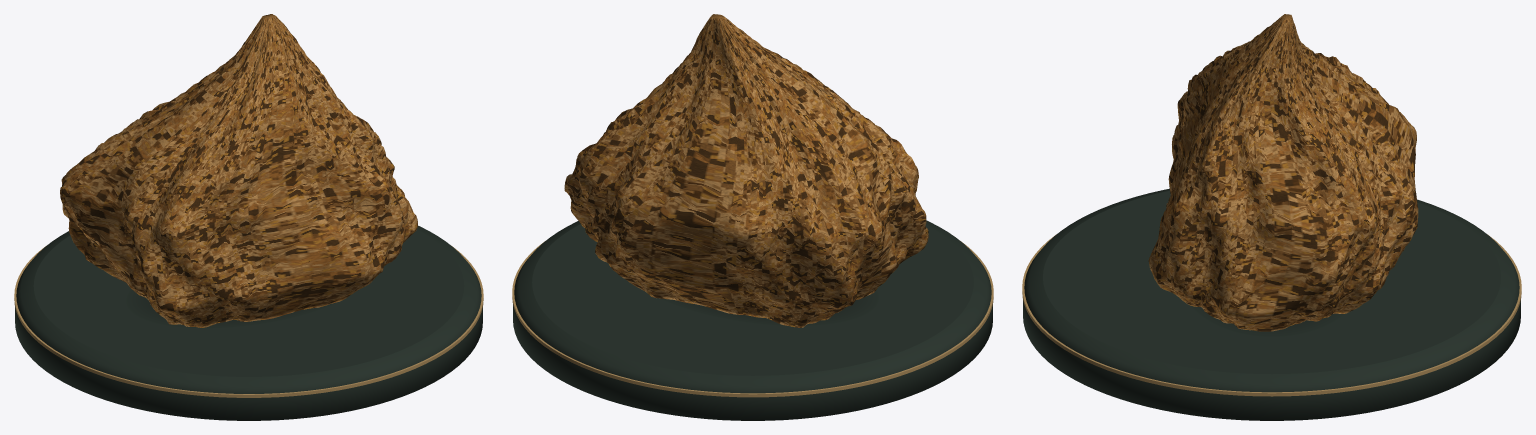
The model's file is lingstone-concept-02-v191-2ddbb443d76f.glb.
3 views of the same model, side by side, from view 1: azimuth 30°, elevation 25°; view 2: azimuth 150°, elevation 25°; view 3: azimuth 270°, elevation 25° (orthographic). The views are drawn at different scales.
Parts seen in each view (by area): view 1: XY-CONCEPT-002 concept stone, Centered beveled display plinth, Champagne gold edge; view 2: XY-CONCEPT-002 concept stone, Centered beveled display plinth, Champagne gold edge; view 3: Centered beveled display plinth, XY-CONCEPT-002 concept stone, Champagne gold edge.
Boxes of the visible parts, left/top/right/bottom form: XY-CONCEPT-002 concept stone: left=60, top=14, right=417, bottom=327; Centered beveled display plinth: left=15, top=226, right=482, bottom=420; Champagne gold edge: left=14, top=245, right=483, bottom=397; XY-CONCEPT-002 concept stone: left=564, top=14, right=928, bottom=327; Centered beveled display plinth: left=513, top=220, right=992, bottom=420; Champagne gold edge: left=512, top=241, right=993, bottom=397; Centered beveled display plinth: left=1023, top=188, right=1520, bottom=420; XY-CONCEPT-002 concept stone: left=1148, top=14, right=1418, bottom=331; Champagne gold edge: left=1022, top=234, right=1521, bottom=396.
Bounding box in the file's own units: 2.06 × 1.45 × 2.06.
4 materials, 1 textured.
